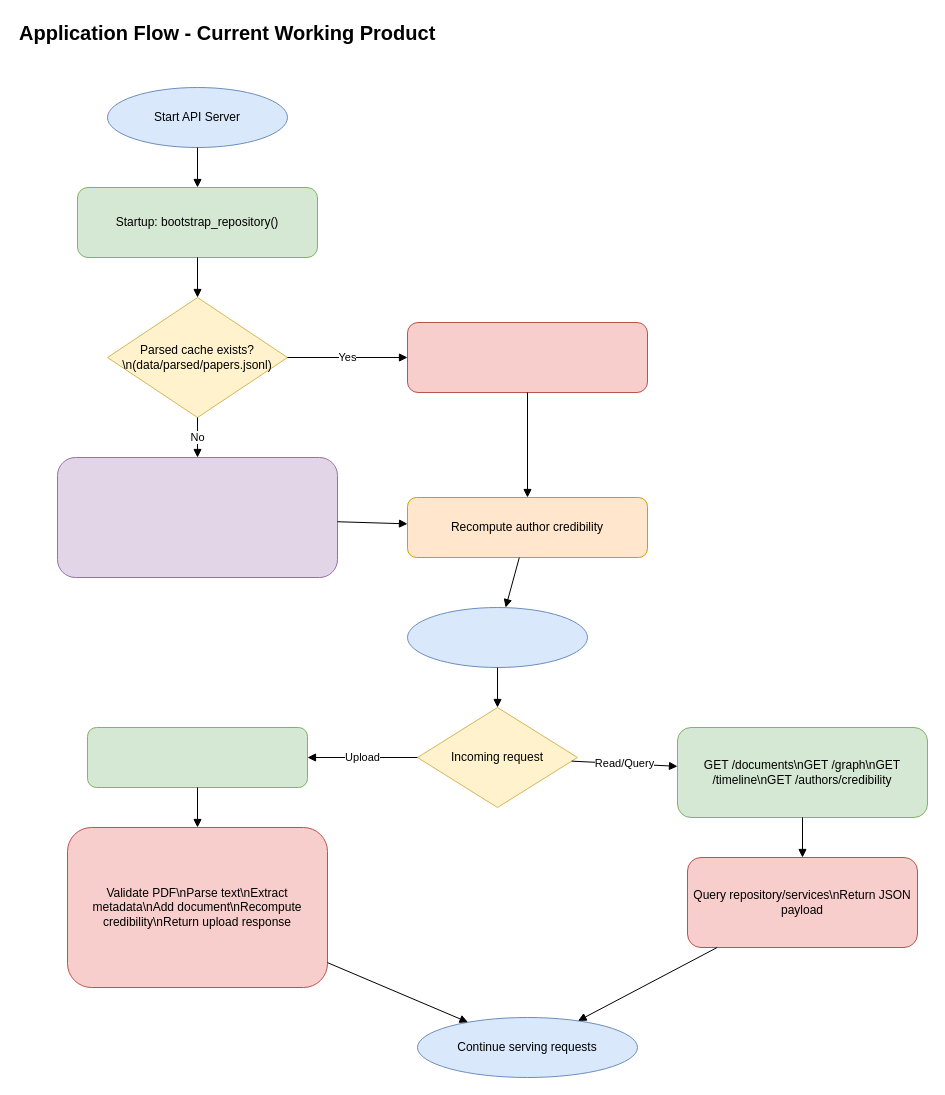
This 945x1095 diagram has some shape labels left out. The shapes that lost their labels are listed below. From the top down, each one's box as (x1, y1, x2, y2) in pixels, then its label:
(406, 322, 648, 392): Load parsed JSONL into repository
(56, 456, 338, 578): Read PDFs from Papers/\nParse with PyMuPDF\nExtract metadata\nWrite parsed JSONL
(406, 606, 588, 668): API Ready
(86, 726, 308, 788): POST /documents/upload
